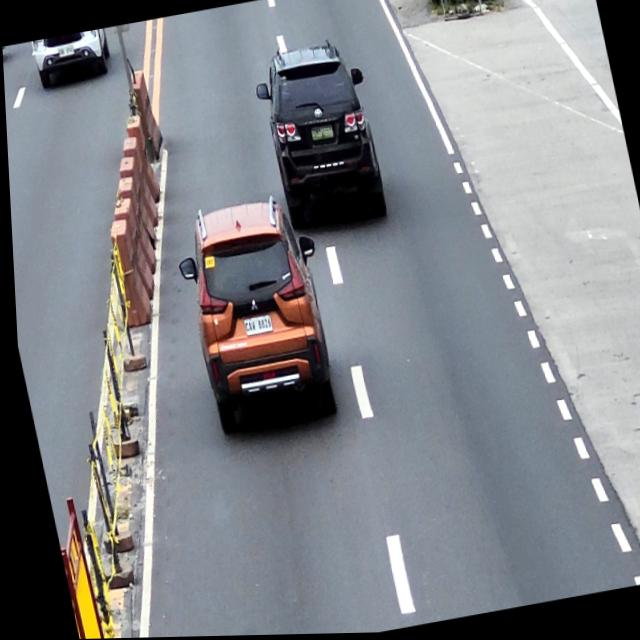Car: (166, 191, 347, 439), (247, 38, 392, 237), (29, 29, 114, 88)
License-Plate: (239, 317, 270, 337), (310, 126, 334, 143), (56, 45, 75, 59)
